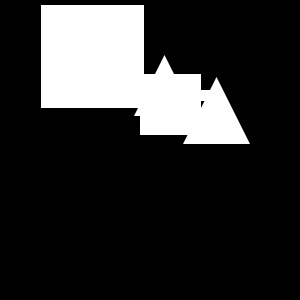circle: (41, 5, 144, 108), (140, 74, 201, 135), (200, 90, 211, 101)
triangle: (183, 77, 250, 144), (134, 55, 195, 116)
